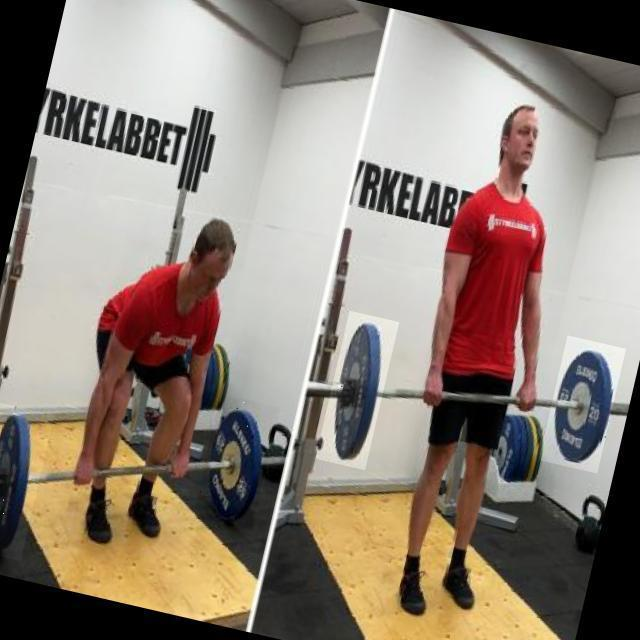barbell: (316, 312, 400, 471), (540, 336, 627, 474), (194, 395, 281, 531), (1, 402, 55, 562)
